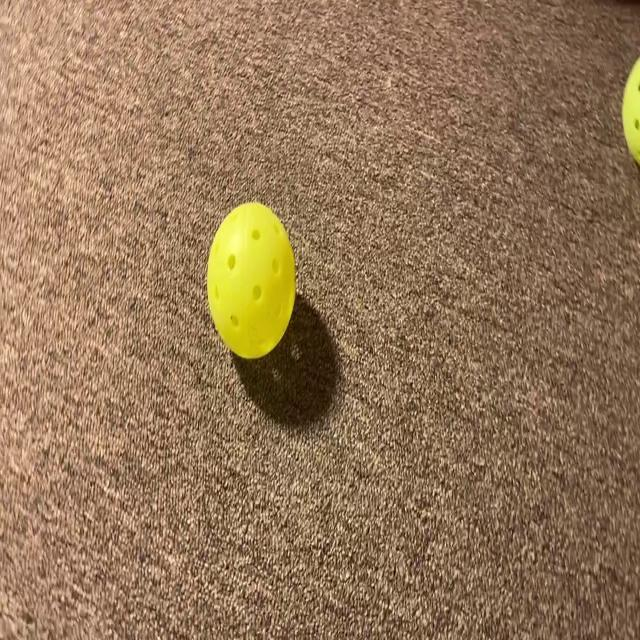ball: (201, 206, 323, 376)
